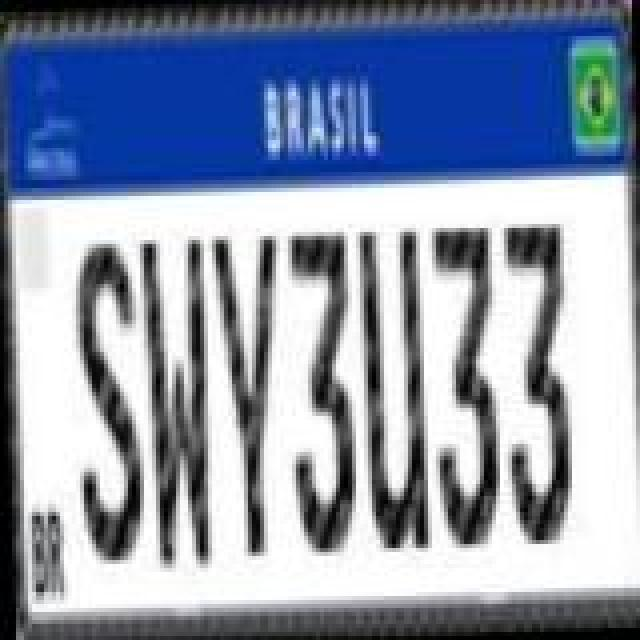3: (278, 222, 354, 558), (422, 218, 498, 554), (494, 212, 570, 548)
S: (66, 232, 142, 568)
U: (352, 220, 424, 556)
W: (134, 228, 210, 568)
Y: (208, 228, 288, 556)
